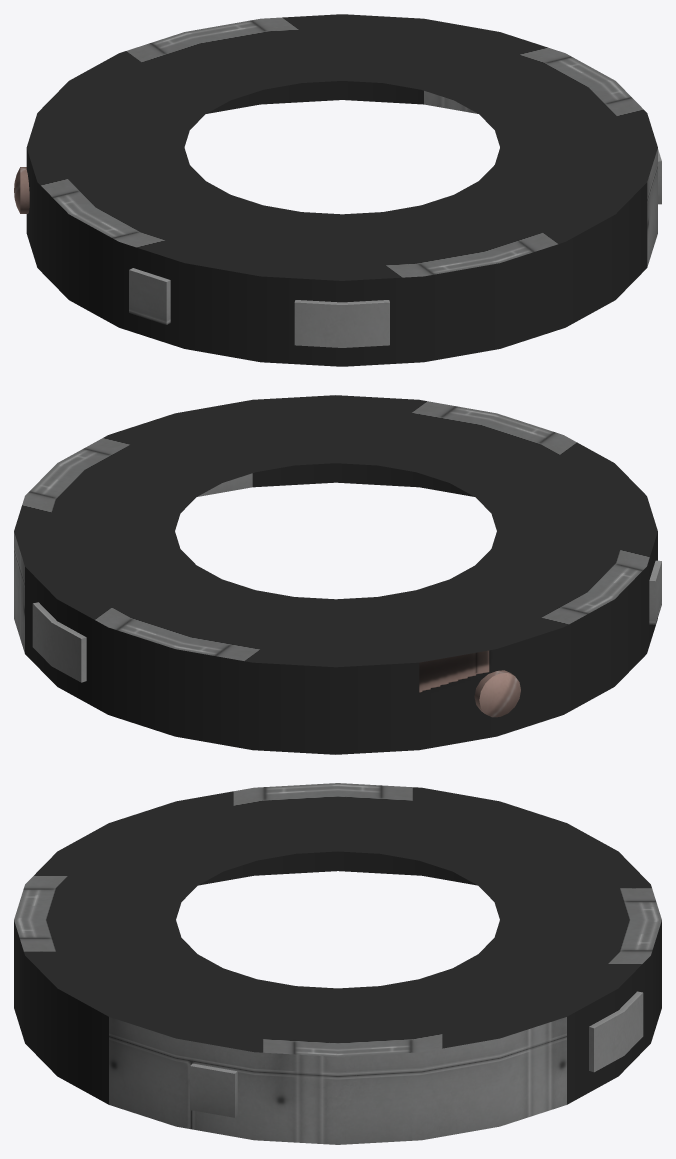
Rendered from acamar_adapter_s2_s1_2.obj.
The picture shows the model from 3 angles, top to bottom: view 1: azimuth 30°, elevation 25°; view 2: azimuth 150°, elevation 25°; view 3: azimuth 270°, elevation 25°; orthographic projection. The views are drawn at different scales.
Parts seen in each view (by area): view 1: mesh2; view 2: mesh2; view 3: mesh2.
Part boxes in pixels (x1,y1,x2,y2): mesh2: (14,14,661,366); mesh2: (14,395,661,754); mesh2: (14,783,661,1144).
Bounding box in the file's own units: 2.5 × 0.375 × 2.5.
Materials: 1 (1 with a texture image).
